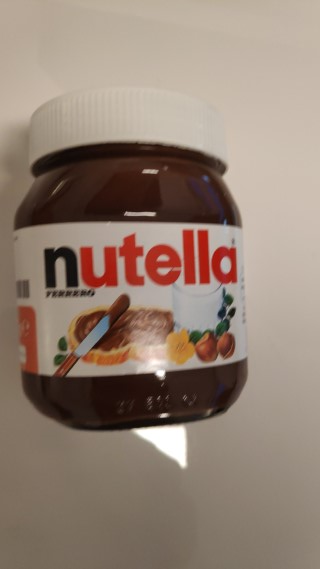nutella: (11, 81, 251, 434)
